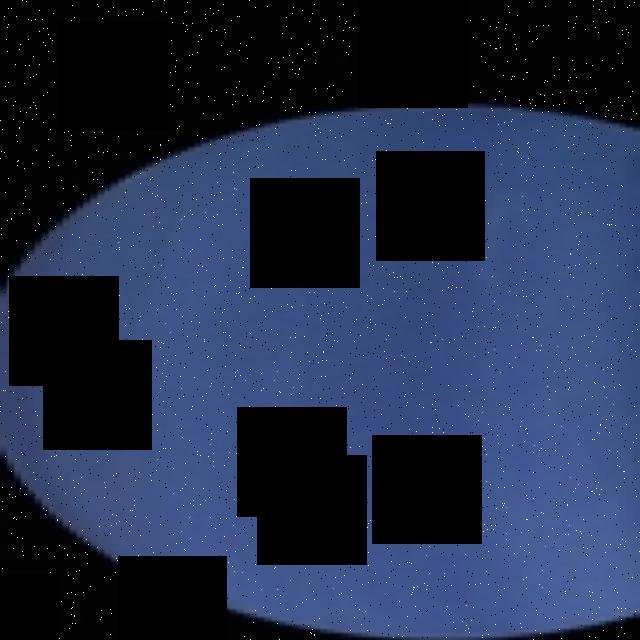Neptune: (0, 103, 640, 640)
